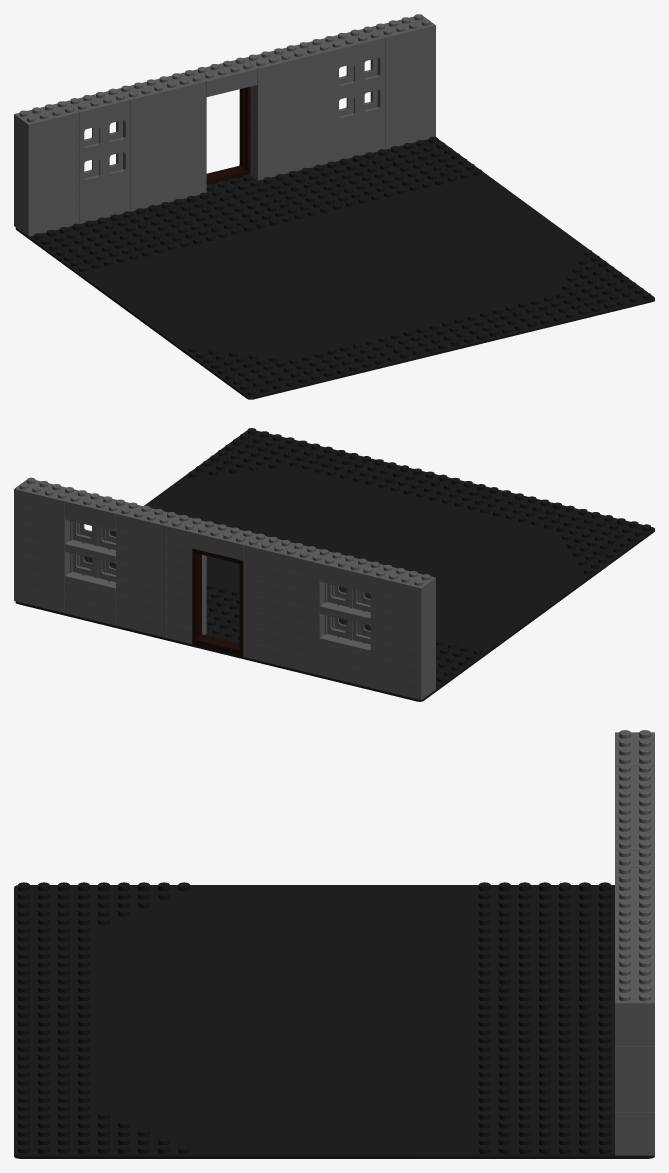
File: Supermarket.dae
3 views of the same model, one above another, from view 1: azimuth 30°, elevation 25°; view 2: azimuth 150°, elevation 25°; view 3: azimuth 270°, elevation 25° (orthographic). The views are drawn at different scales.
Visible parts, largest first — view 1: Part.0, Part.80, Part.73, Part.50, Part.74, Part.49, Part.59, Part.4, Part.65, Part.66, Part.60, Part.61 (+35 smaller); view 2: Part.0, Part.4, Part.80, Part.74, Part.73, Part.59, Part.49, Part.50, Part.62, Part.63, Part.56, Part.57 (+44 smaller); view 3: Part.0, Part.49, Part.50, Part.59, Part.80, Part.73, Part.74, Part.46, Part.47, Part.1, Part.44, Part.45 (+1 smaller).
Part boxes in pixels (box(x1,y1,x2,y2)): Part.0: box(15, 136, 654, 399); Part.80: box(14, 101, 79, 140); Part.73: box(116, 76, 181, 115); Part.50: box(269, 39, 334, 78); Part.74: box(65, 88, 130, 128); Part.49: box(371, 14, 435, 53); Part.59: box(320, 26, 384, 65); Part.4: box(206, 87, 250, 184); Part.65: box(79, 116, 130, 160); Part.66: box(79, 148, 130, 192); Part.60: box(334, 54, 384, 97); Part.61: box(334, 86, 384, 129); Part.0: box(15, 428, 654, 701); Part.4: box(192, 548, 243, 656); Part.80: box(370, 564, 435, 604); Part.74: box(319, 552, 384, 591); Part.73: box(268, 540, 333, 579); Part.59: box(65, 490, 129, 529); Part.49: box(14, 477, 78, 517); Part.50: box(116, 502, 180, 541); Part.62: box(319, 611, 370, 655); Part.63: box(319, 579, 370, 623); Part.56: box(65, 549, 115, 593); Part.57: box(65, 517, 115, 561); Part.0: box(14, 882, 654, 1158); Part.49: box(615, 967, 654, 1024); Part.50: box(615, 899, 654, 935); Part.59: box(615, 933, 654, 969); Part.80: box(615, 730, 654, 766); Part.73: box(615, 798, 654, 833); Part.74: box(615, 764, 654, 799); Part.46: box(615, 1068, 654, 1090); Part.47: box(615, 1046, 654, 1068); Part.1: box(615, 1134, 654, 1155); Part.44: box(615, 1112, 654, 1133); Part.45: box(615, 1090, 654, 1111).
Size of the model in its own units: 256 by 70.38 by 256.
